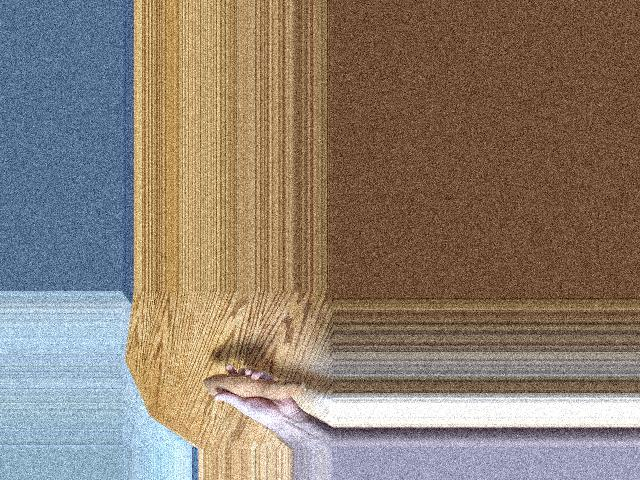sweet_potato: (195, 371, 309, 411)
